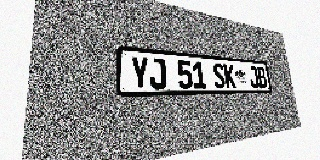1: (191, 61, 206, 89)
5: (177, 60, 193, 89)
B: (256, 67, 268, 88)
J: (149, 58, 167, 89), (248, 66, 260, 88)
K: (223, 64, 236, 88)
S: (212, 63, 226, 89)
Y: (130, 56, 150, 89)
